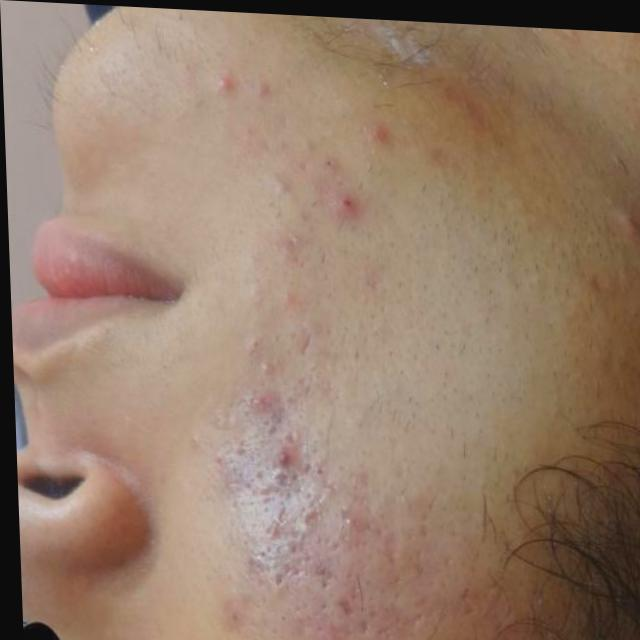8: (205, 41, 247, 110), (329, 185, 369, 226), (359, 100, 389, 153)
blackheads: (253, 433, 305, 487), (248, 492, 291, 545), (367, 514, 401, 574), (325, 582, 352, 619)
dark spot: (231, 317, 269, 359), (307, 136, 341, 175)
